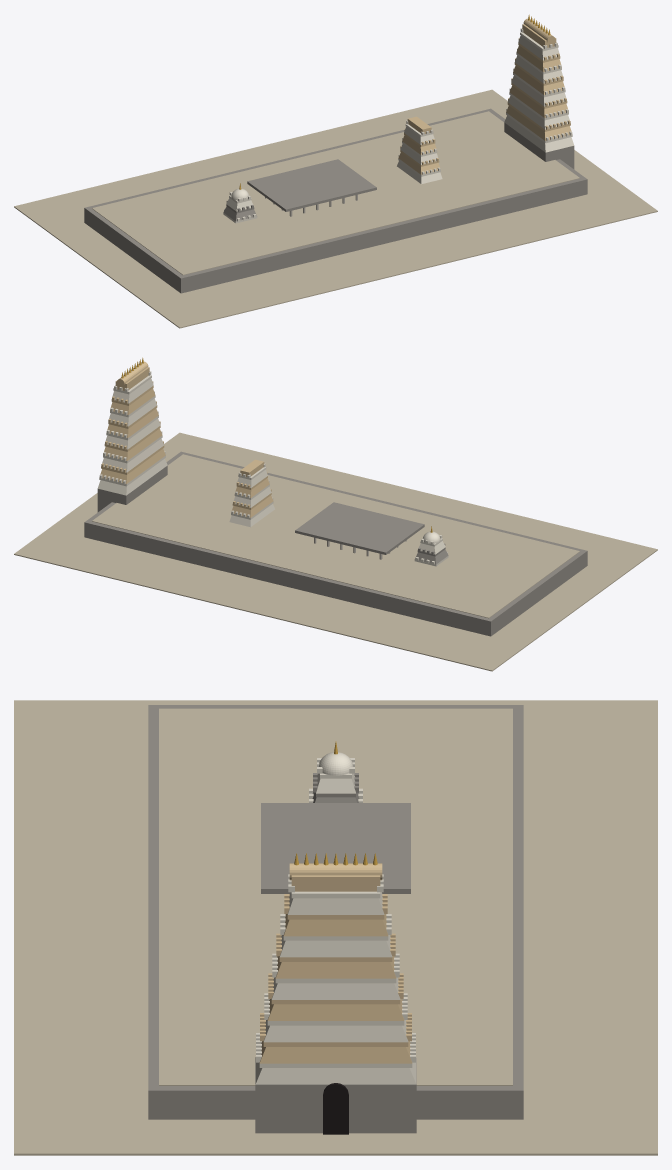
Rendered from hampi.glb.
3 renders of one model, top to bottom at view 1: azimuth 30°, elevation 25°; view 2: azimuth 150°, elevation 25°; view 3: azimuth 270°, elevation 25°, orthographic. The views are drawn at different scales.
Parts seen in each view (by area): view 1: ground, granite, stucco, buff; view 2: ground, granite, stucco, buff; view 3: ground, granite, stucco, buff, void.
Boxes of the visible parts, x1,y1,x2,y2 form: ground: [14, 89, 657, 328]; granite: [84, 108, 587, 293]; stucco: [223, 28, 574, 223]; buff: [398, 18, 571, 174]; ground: [14, 432, 657, 671]; granite: [84, 451, 587, 636]; stucco: [97, 371, 448, 566]; buff: [100, 361, 273, 517]; ground: [14, 700, 657, 1155]; granite: [148, 705, 523, 1133]; stucco: [255, 752, 416, 1084]; buff: [259, 863, 412, 1063]; void: [323, 1083, 348, 1134].
Size of the model in its own units: 200 by 55.2 by 120.
